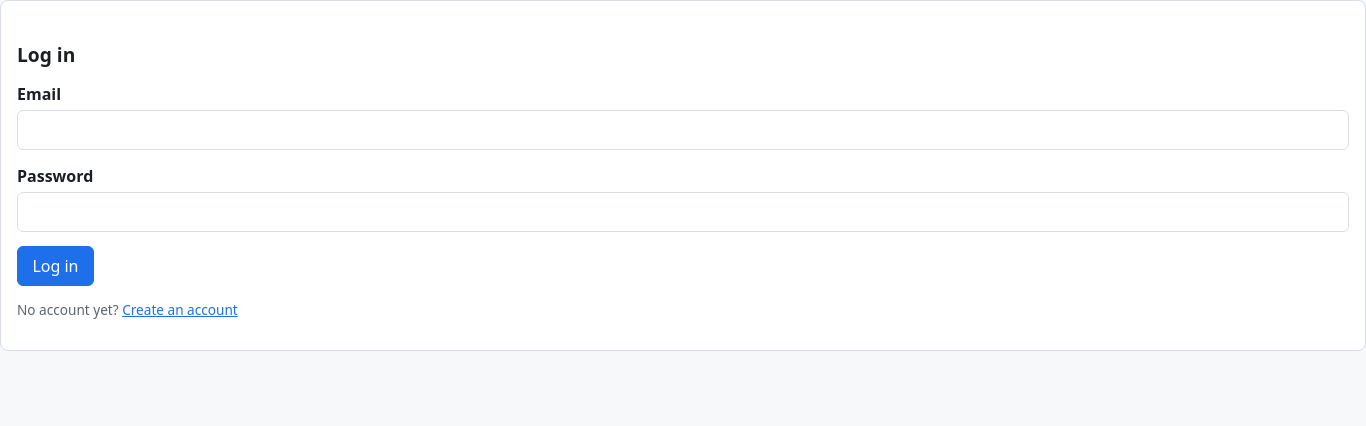
Test: logging in › renders the refusal's own detail in an alert
Type "ada@example.com" into the field labelled "Email".
click(683, 130); type("ada@example.com")  # box [17, 110, 1349, 150]
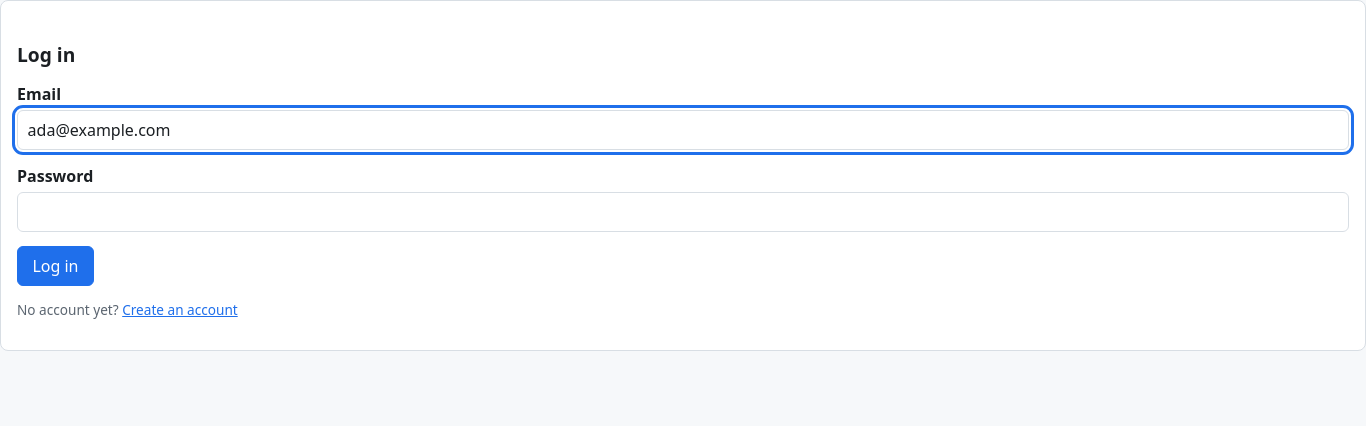
Type "wrong" into the password field labelled "Password".
click(683, 212); type("wrong")  # box [17, 192, 1349, 232]
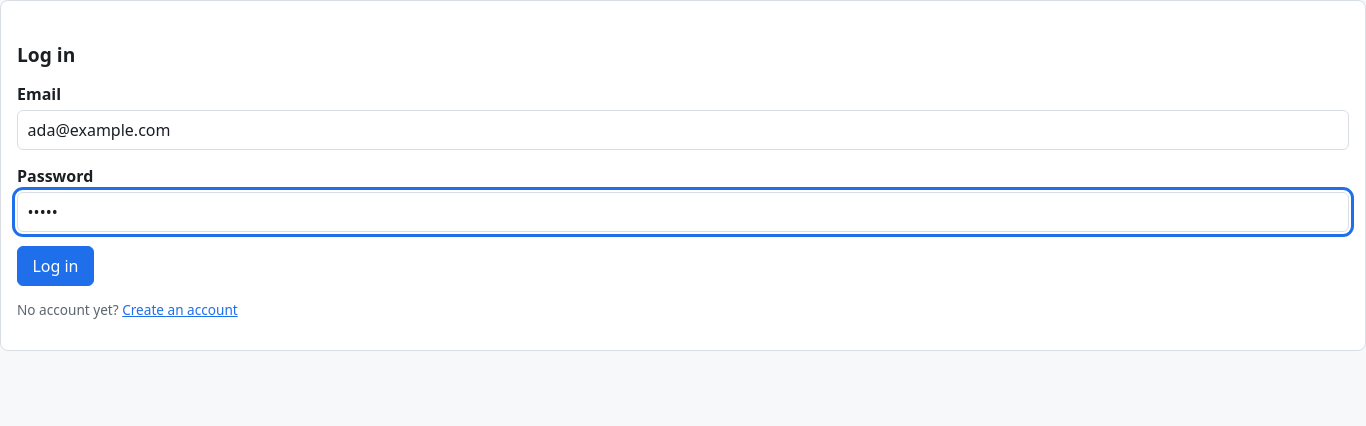
Click the button "Log in".
click(55, 266)  # box [17, 246, 94, 286]
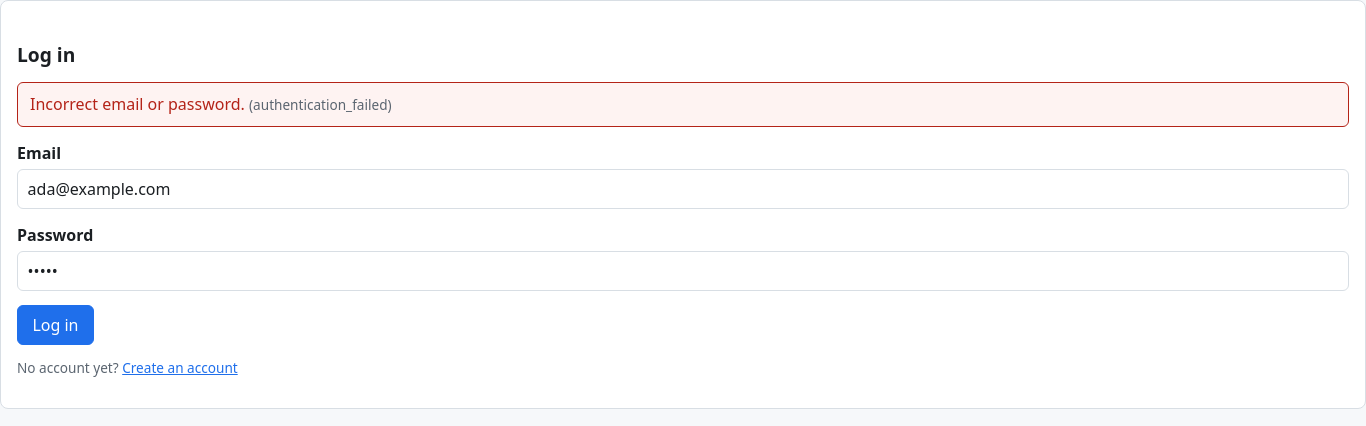
expect the message shows "Incorrect email or password.": met, box [30, 93, 245, 115]
expect the message shows "authentication_failed": met, box [253, 95, 388, 114]
